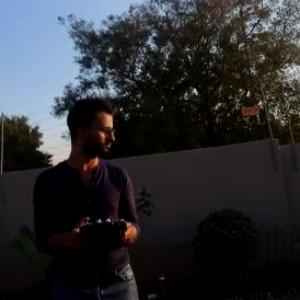follow: (22, 90, 146, 299)
